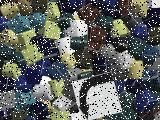Left: (71, 71, 122, 120)
